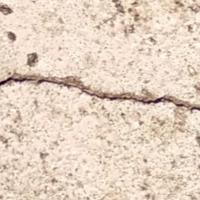crack: (0, 56, 199, 130)
